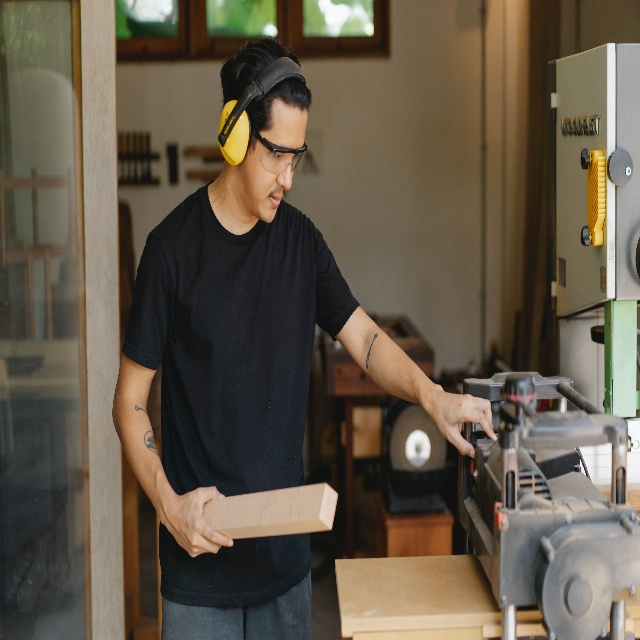Gafas: (250, 126, 308, 175)
Sin_guantes: (164, 485, 234, 558), (428, 388, 497, 459)
